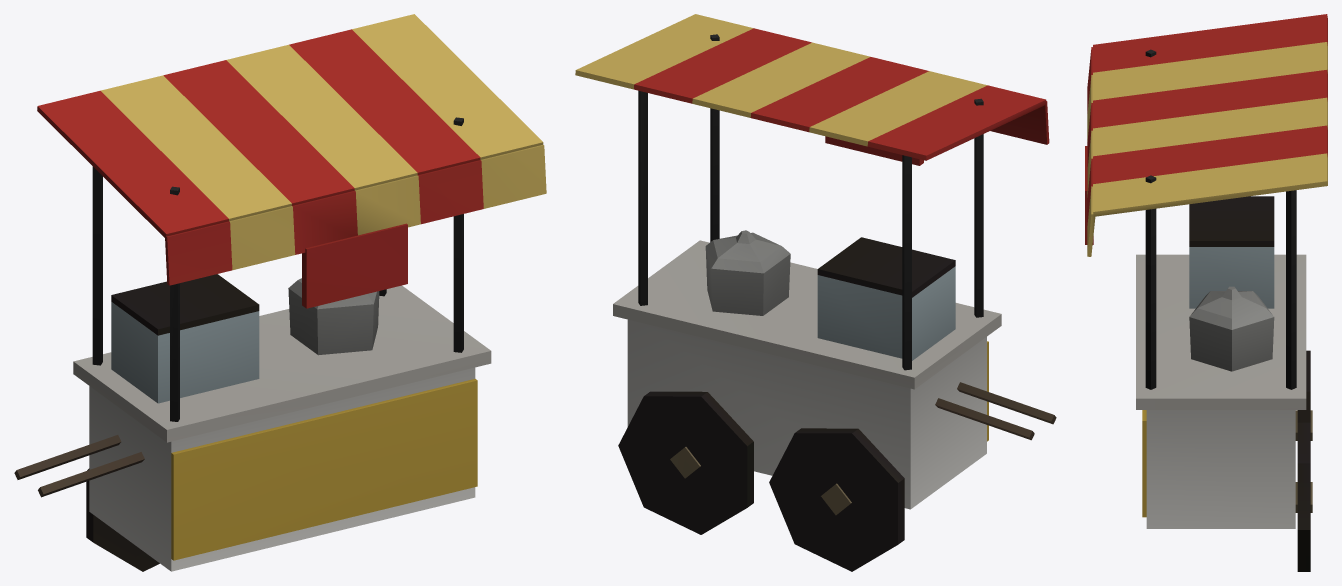
File: tp_cart_lo-BHdb6WqK.glb
3 renders of one model, left to right at view 1: azimuth 30°, elevation 25°; view 2: azimuth 150°, elevation 25°; view 3: azimuth 270°, elevation 25°, orthographic. The views are drawn at different scales.
Bounding box in the file's own units: 2.19 × 2.24 × 1.14.
